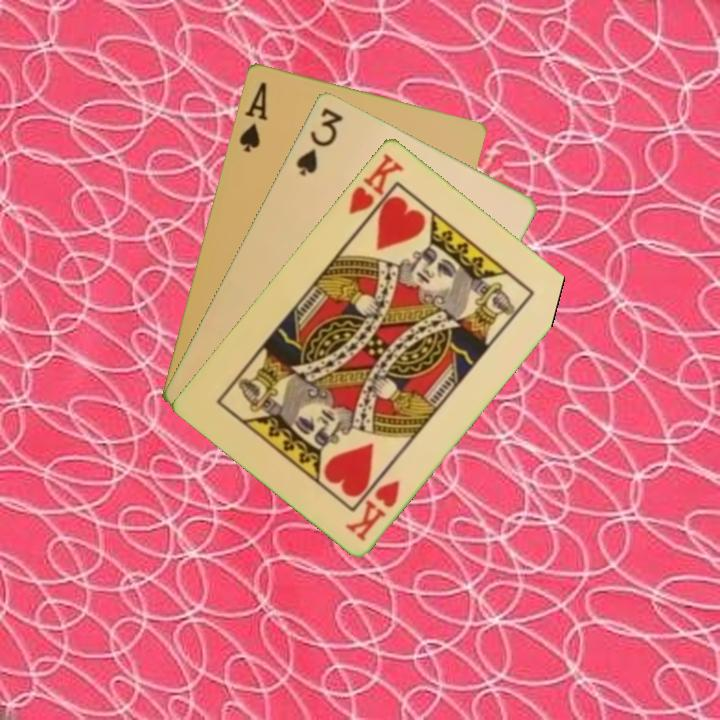3s: (292, 103, 346, 179)
As: (235, 77, 270, 155)
Kh: (344, 149, 407, 229), (341, 475, 403, 544)
